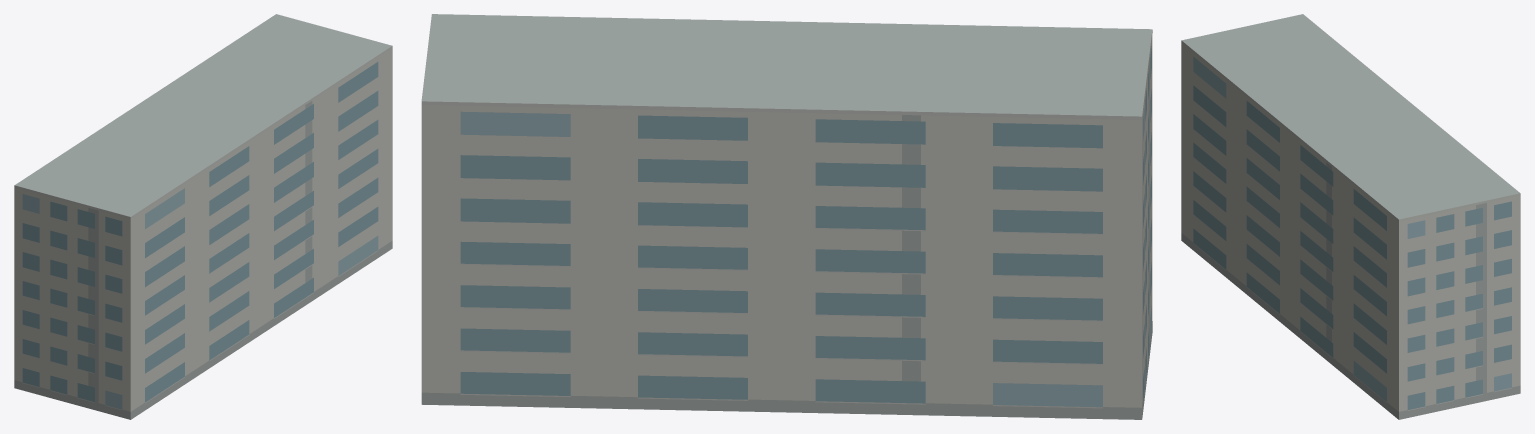
Rendered from residential-d01edff1-f5a1-4f02-a364-7c829af980fe.glb.
3 views of the same model, side by side, from view 1: azimuth 30°, elevation 25°; view 2: azimuth 150°, elevation 25°; view 3: azimuth 270°, elevation 25° (orthographic). The views are drawn at different scales.
Parts seen in each view (by area): view 1: residential-d01edff1-f5a1-4f02-a364-7c829af980fe.tmp; view 2: residential-d01edff1-f5a1-4f02-a364-7c829af980fe.tmp; view 3: residential-d01edff1-f5a1-4f02-a364-7c829af980fe.tmp.
Boxes of the visible parts, x1,y1,x2,y2 form: residential-d01edff1-f5a1-4f02-a364-7c829af980fe.tmp: (14,14,392,419); residential-d01edff1-f5a1-4f02-a364-7c829af980fe.tmp: (421,14,1152,419); residential-d01edff1-f5a1-4f02-a364-7c829af980fe.tmp: (1181,14,1520,419).
Bounding box in the file's own units: 46.98 × 21.35 × 32.75.
